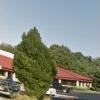Tree: (15, 24, 60, 94)
